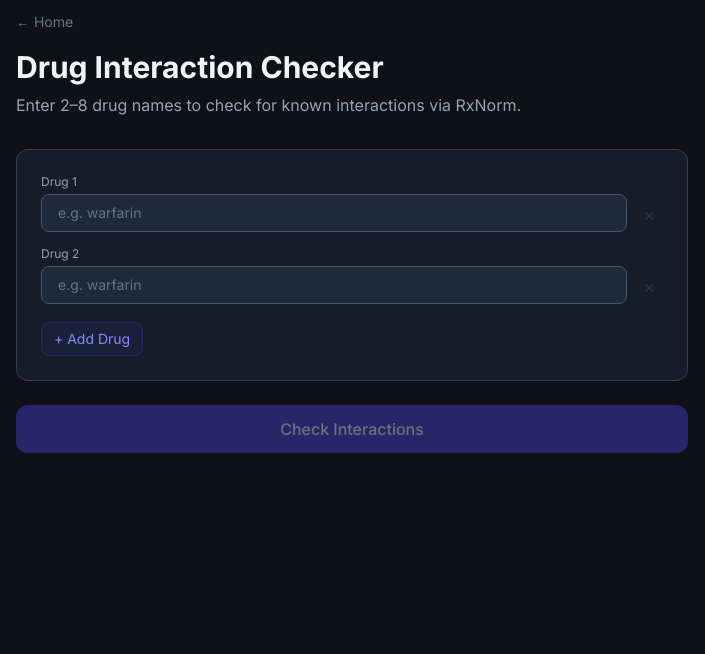
Test: InteractionsClient › shows warning when drug cannot be resolved
Type "aspirin" into the field with test id "drug-input-0".
click(334, 213); type("aspirin")  # box [41, 194, 627, 232]
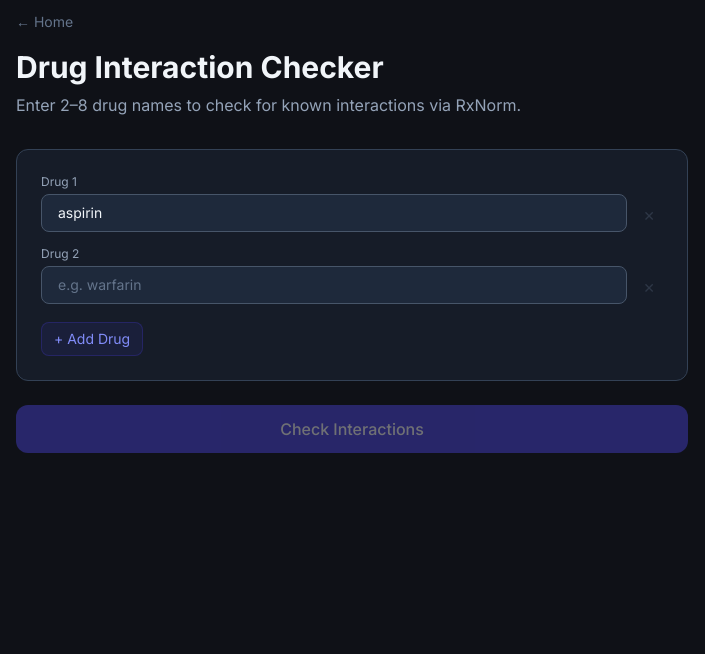
Type "xyz123" into the field with test id "drug-input-1".
click(334, 285); type("xyz123")  # box [41, 266, 627, 304]
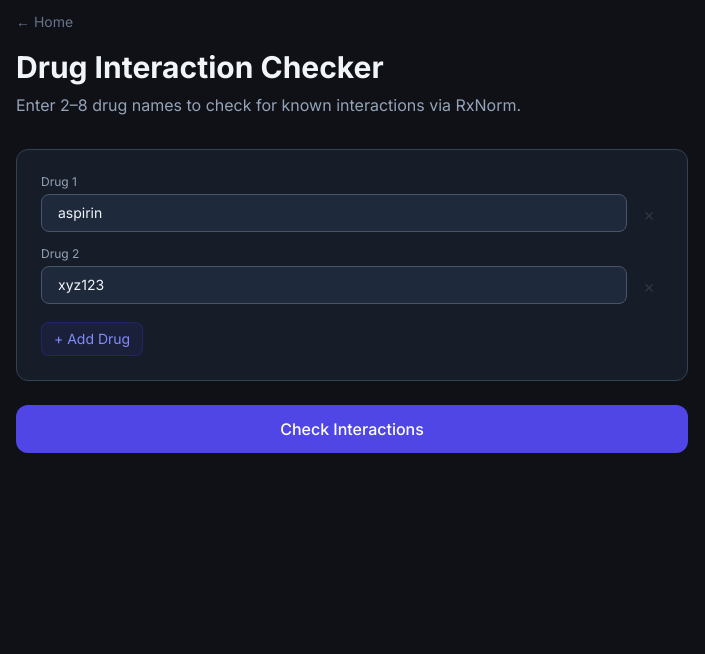
Click the button with test id "check-button".
click(352, 429)  # box [16, 405, 688, 453]
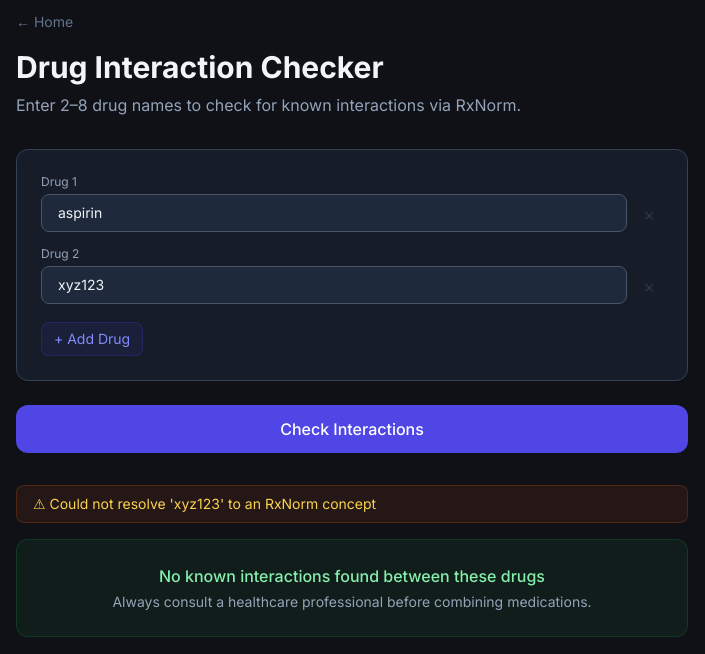
Now the text "⚠ Could not resolve 'xyz123' to an RxNorm concept" is shown, box [16, 485, 688, 523]
